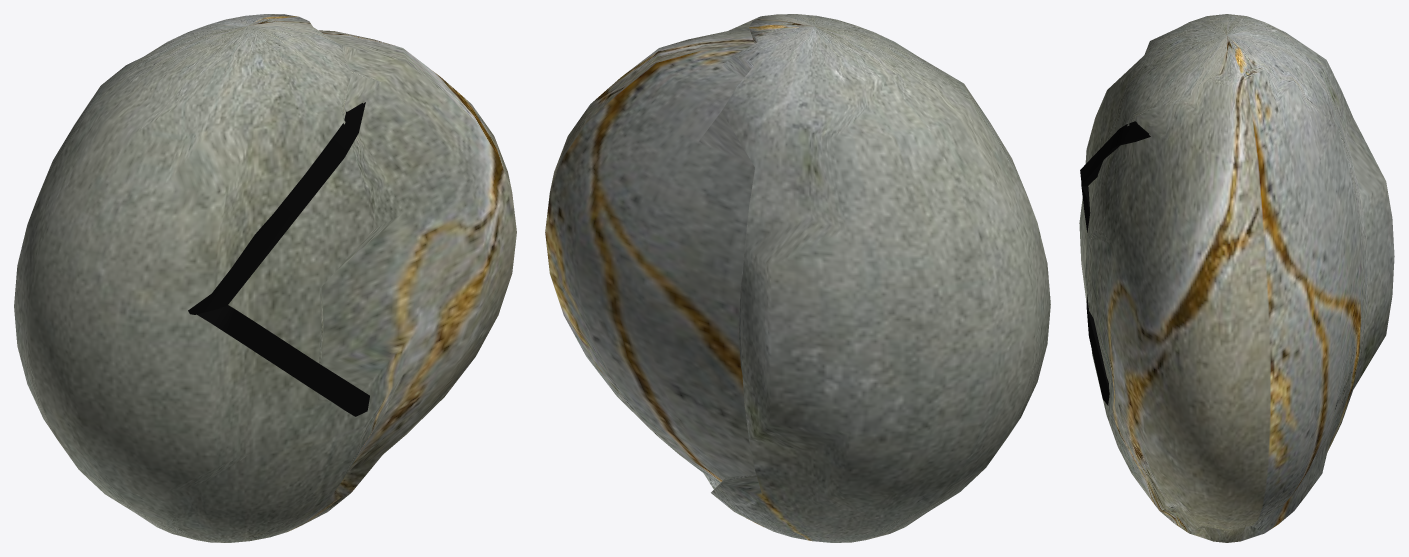
File: Rune.obj
The picture shows the model from 3 angles, left to right: view 1: azimuth 30°, elevation 25°; view 2: azimuth 150°, elevation 25°; view 3: azimuth 270°, elevation 25°; orthographic projection. The views are drawn at different scales.
Parts seen in each view (by area): view 1: pSphere2; view 2: pSphere2; view 3: pSphere2.
Part boxes in pixels (x1,y1,x2,y2): pSphere2: [14, 14, 516, 542]; pSphere2: [545, 14, 1050, 542]; pSphere2: [1079, 14, 1394, 542].
Size of the model in its own units: 3.62 by 3.62 by 2.11.
2 materials, 1 textured.
